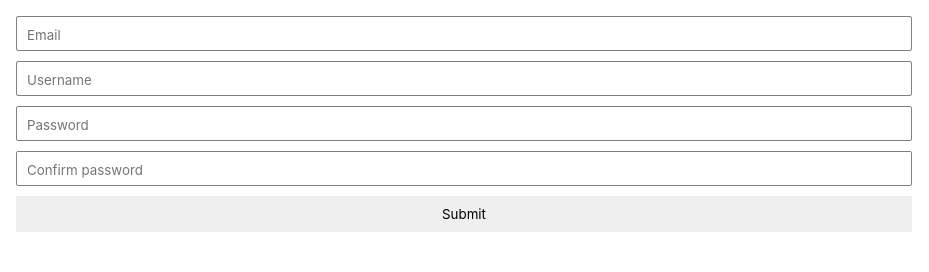
Test case: error handling › should show error message on invalid inputs › should show error message if password is shorter than 6 characters
This screenshot has width=929, height=272.
Type "12345" into the password field with placeholder "Password" at (464, 124), box [16,106,912,141]
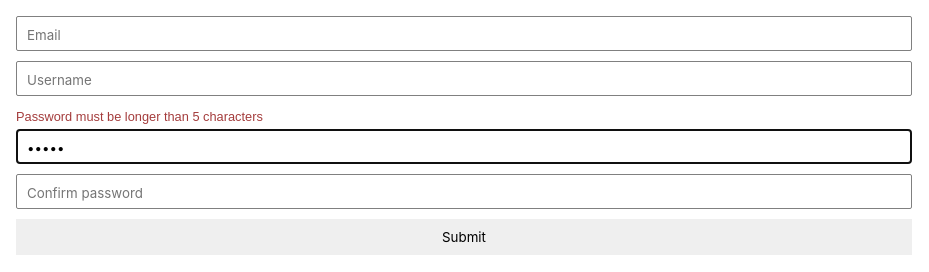
Expected: the text "Password must be longer than 5 characters" is shown, [16,109,263,124]
